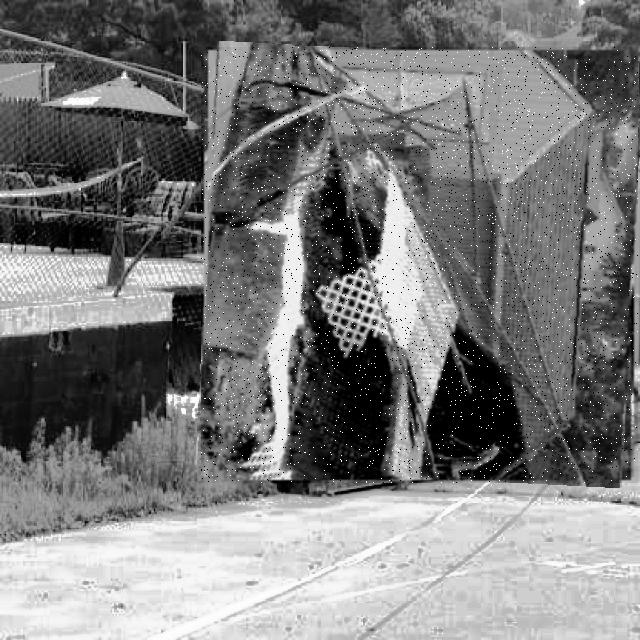anomaly-fence: (201, 47, 638, 483)
